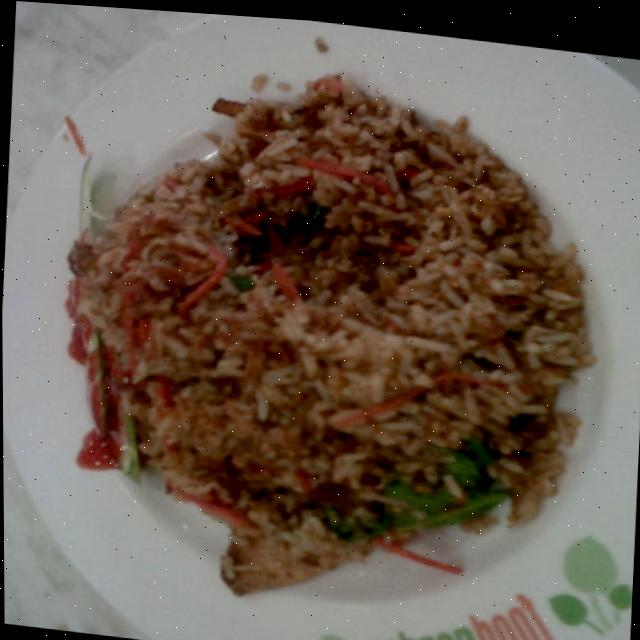米饭主食: (7, 7, 635, 640)
